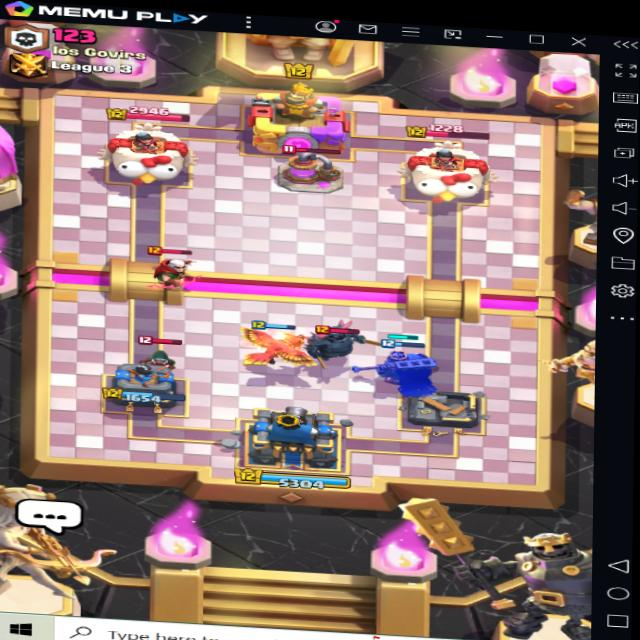Bandit: (129, 333, 188, 376)
Marcher: (144, 242, 205, 296)
Pekka: (302, 320, 378, 371)
Pump: (281, 143, 362, 203)
